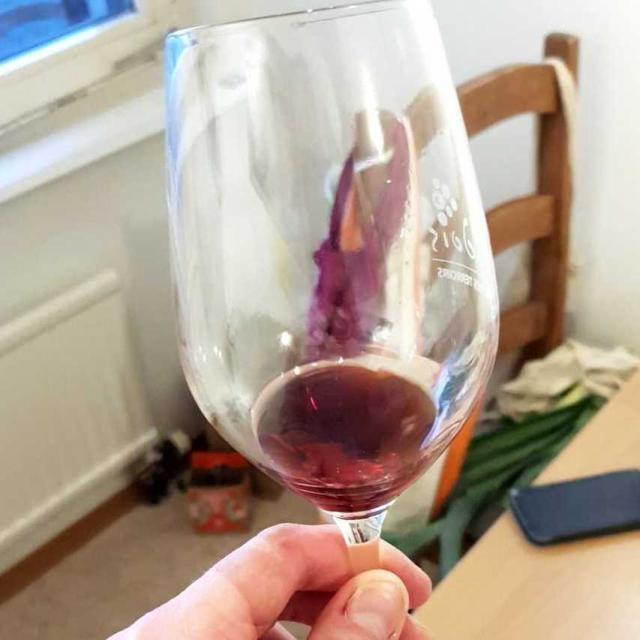wine: (263, 365, 447, 517)
